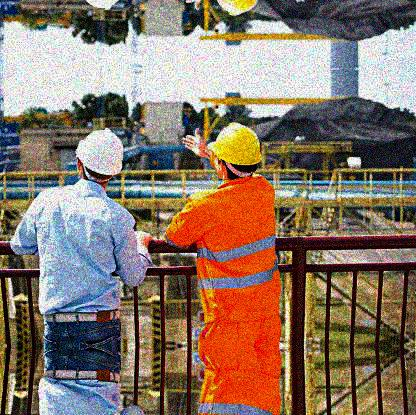helmet: (208, 122, 263, 180), (75, 128, 124, 187)
